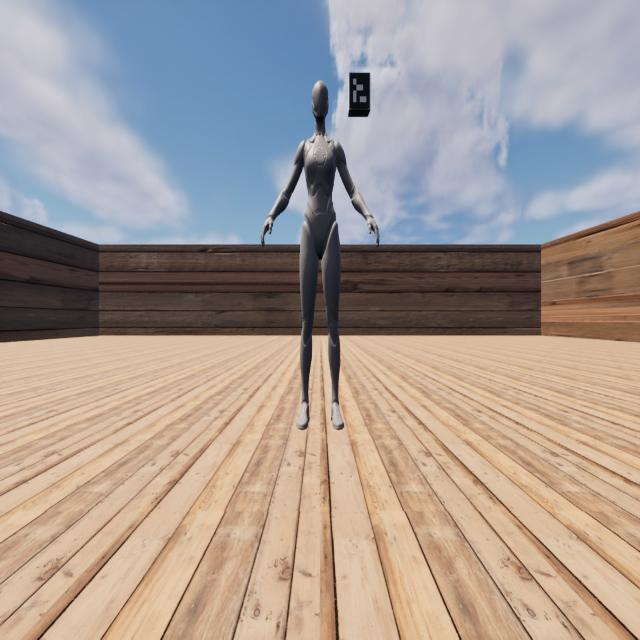aruco: (350, 73, 370, 109)
hip: (302, 221, 338, 233)
